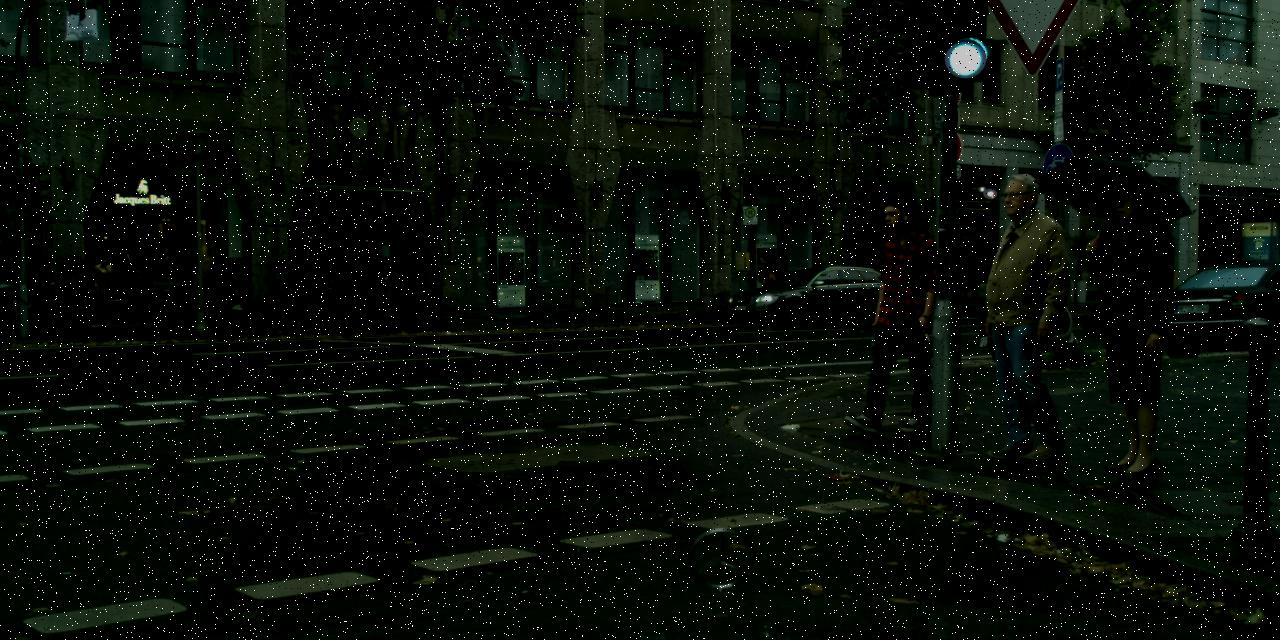ped: (1063, 162, 1189, 470), (961, 173, 1078, 458), (846, 196, 942, 432), (757, 256, 779, 310), (4, 238, 19, 296), (27, 250, 32, 284), (4, 291, 7, 301), (18, 326, 18, 328)
